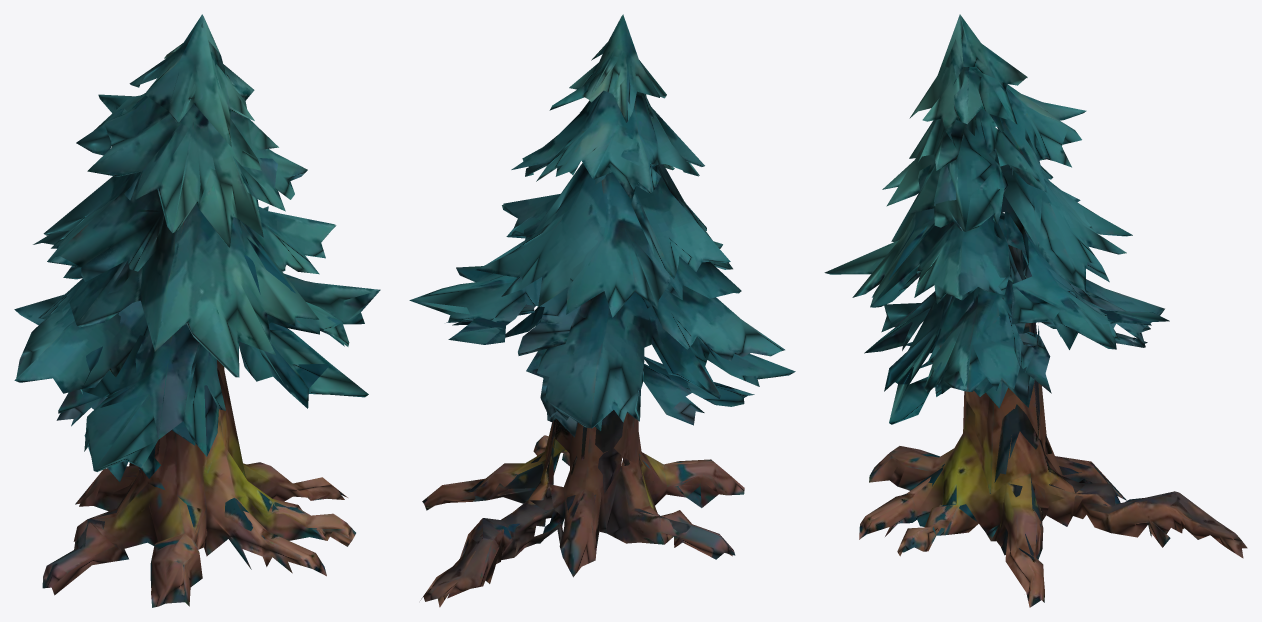
File: tree_darkwood_small_fir.glb
The picture shows the model from 3 angles, left to right: view 1: azimuth 30°, elevation 25°; view 2: azimuth 150°, elevation 25°; view 3: azimuth 270°, elevation 25°; orthographic projection. The views are drawn at different scales.
Visible parts, largest first — view 1: BakeLow; view 2: BakeLow; view 3: BakeLow.
Part boxes in pixels (x1,y1,x2,y2): BakeLow: (14,14,380,607); BakeLow: (409,14,795,607); BakeLow: (824,14,1247,607).
Bounding box in the file's own units: 0.5676 × 0.8213 × 0.6154.
Materials: 1 (1 with a texture image).
